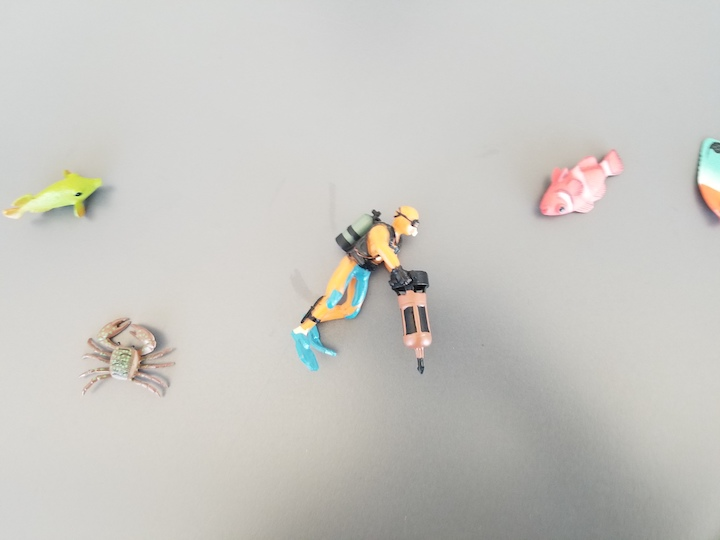crab: (81, 314, 178, 400)
diver: (291, 204, 449, 378)
fish: (536, 149, 626, 220), (4, 167, 106, 228), (693, 134, 720, 223)
